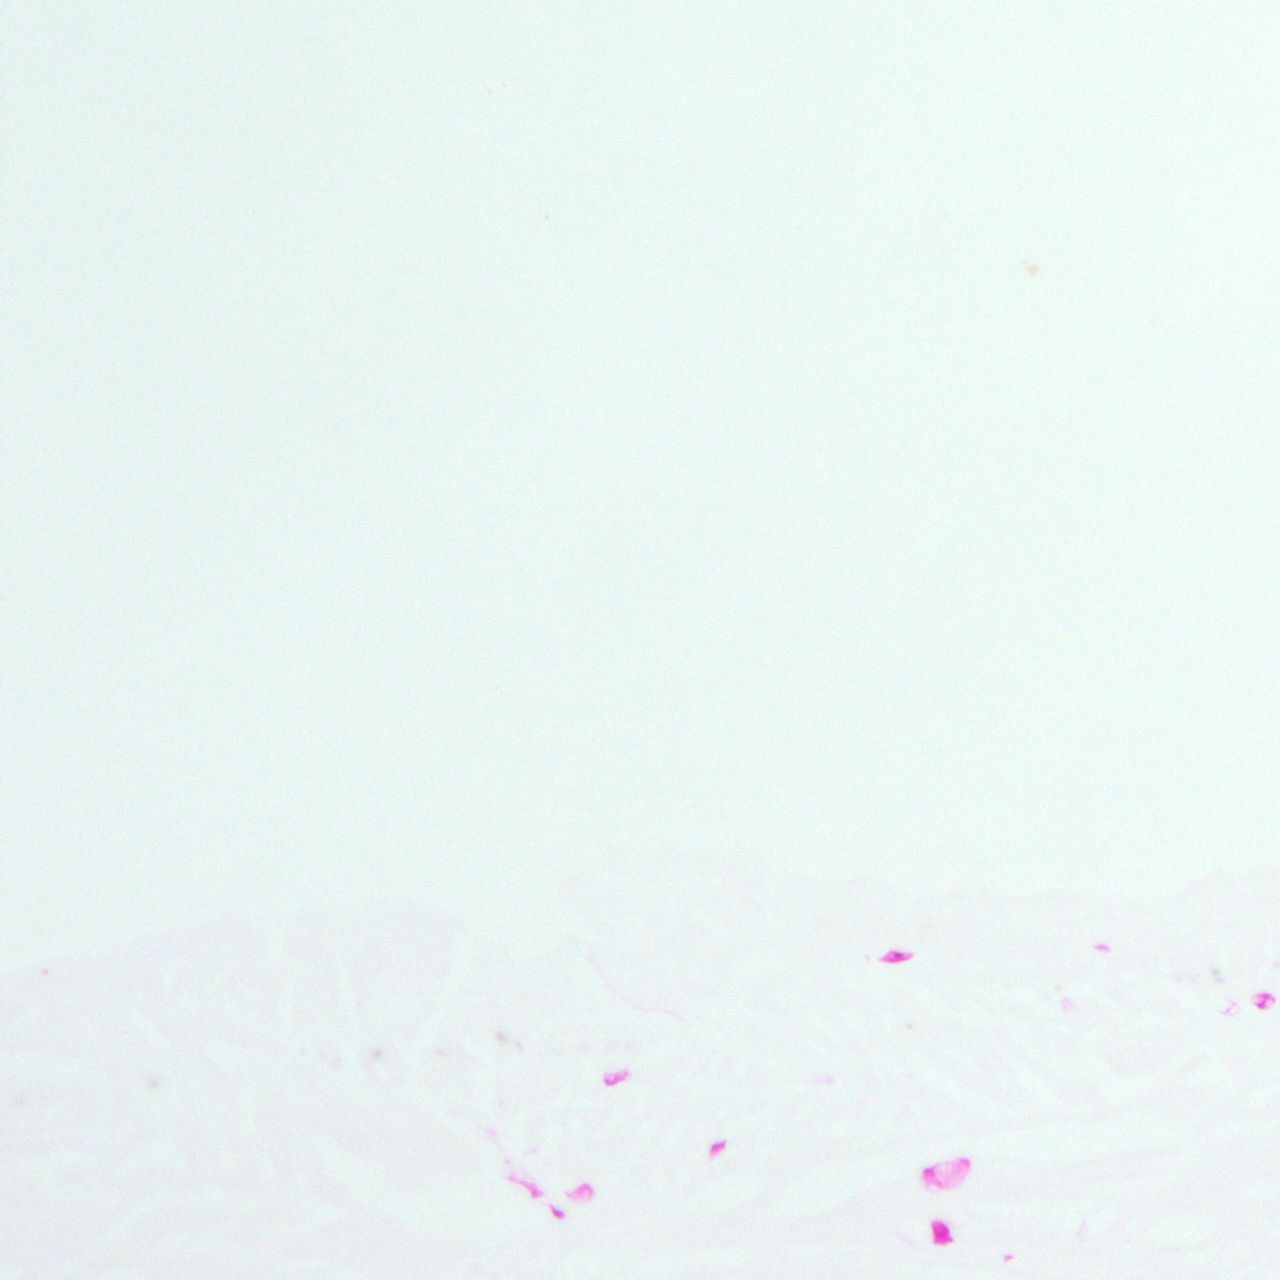nucleus-FG: (932, 1220, 949, 1244), (879, 951, 910, 962)
